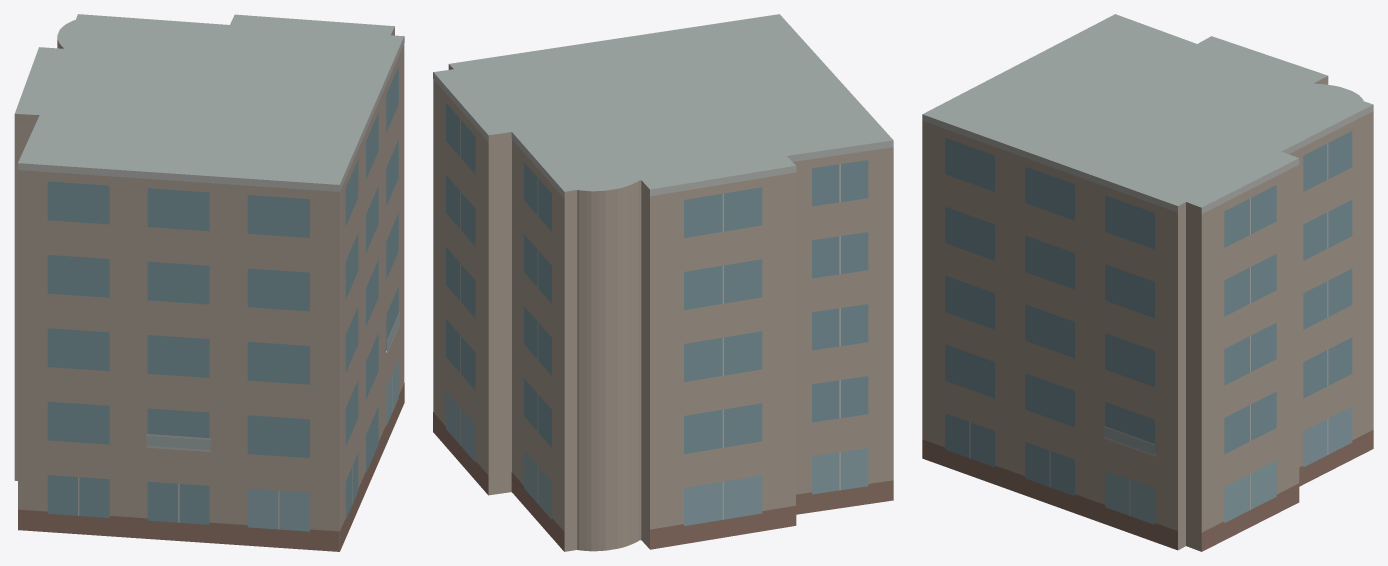
The model's file is survey-upis-32743311.glb.
3 renders of one model, left to right at view 1: azimuth 30°, elevation 25°; view 2: azimuth 150°, elevation 25°; view 3: azimuth 270°, elevation 25°, orthographic. The views are drawn at different scales.
Visible parts, largest first — view 1: survey-upis-32743311.tmp; view 2: survey-upis-32743311.tmp; view 3: survey-upis-32743311.tmp.
Part boxes in pixels (left/top/right/bottom): survey-upis-32743311.tmp: left=14, top=14, right=404, bottom=551; survey-upis-32743311.tmp: left=433, top=14, right=893, bottom=551; survey-upis-32743311.tmp: left=922, top=14, right=1373, bottom=551.
Bounding box in the file's own units: 15.58 × 12.9 × 15.34.
